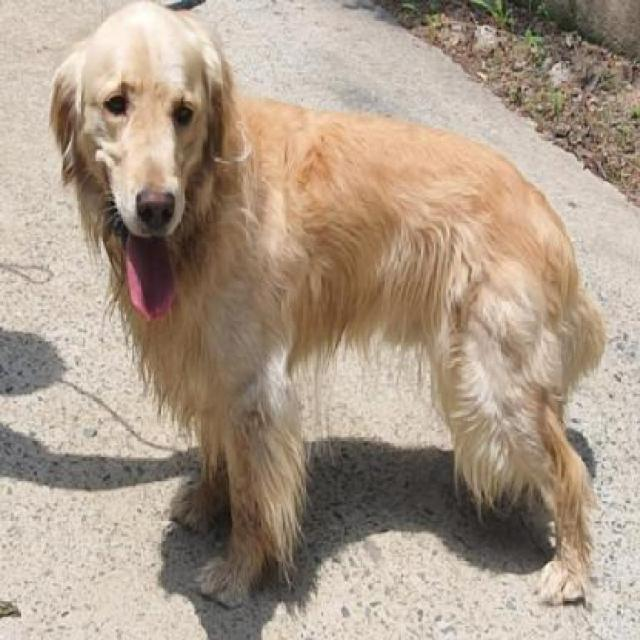Dog: (42, 2, 606, 616)
